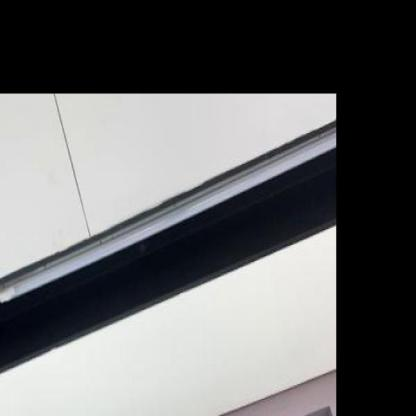light_off: (0, 91, 372, 415)
